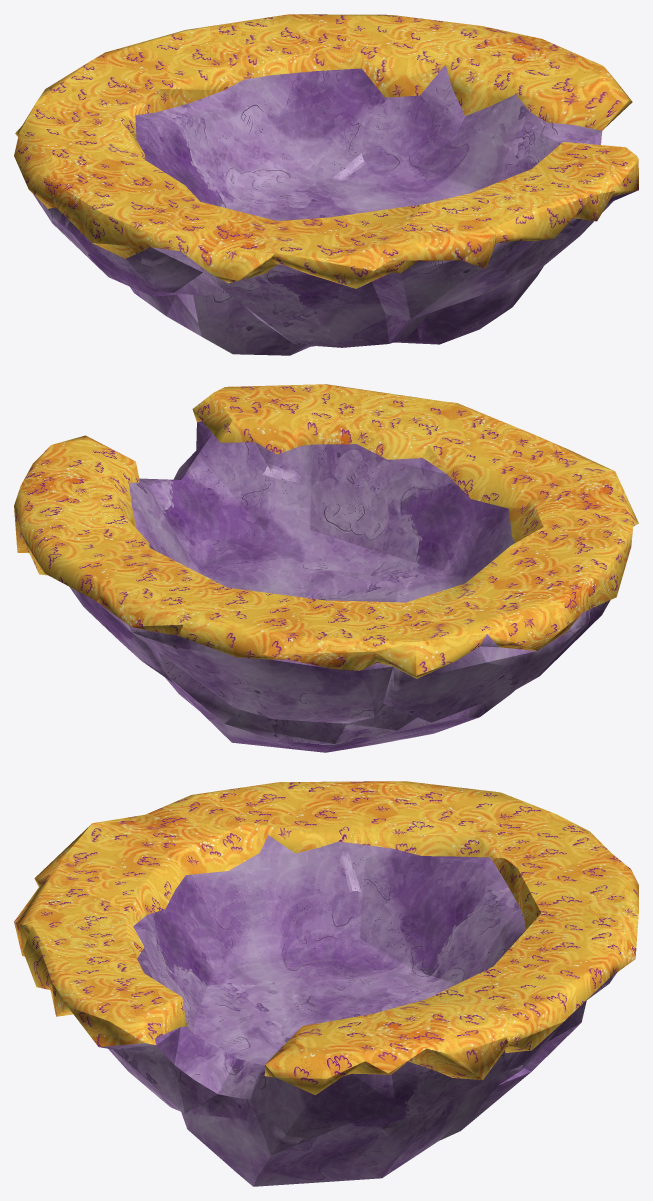
Rendered from pm-floating-island-02.glb.
The picture shows the model from 3 angles, top to bottom: view 1: azimuth 30°, elevation 25°; view 2: azimuth 150°, elevation 25°; view 3: azimuth 270°, elevation 25°; orthographic projection. The views are drawn at different scales.
Parts seen in each view (by area): view 1: Floating_Island_02_Art; view 2: Floating_Island_02_Art; view 3: Floating_Island_02_Art.
Boxes of the visible parts, left/top/right/bottom form: Floating_Island_02_Art: left=14, top=14, right=638, bottom=355; Floating_Island_02_Art: left=14, top=384, right=638, bottom=752; Floating_Island_02_Art: left=14, top=781, right=638, bottom=1186.
Size of what is drawn, in the model's own units: 17.74 by 6.25 by 16.26.
Materials: 2 (2 with a texture image).
